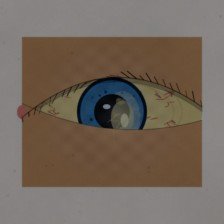corneal_ulcer: (94, 95, 150, 140)
